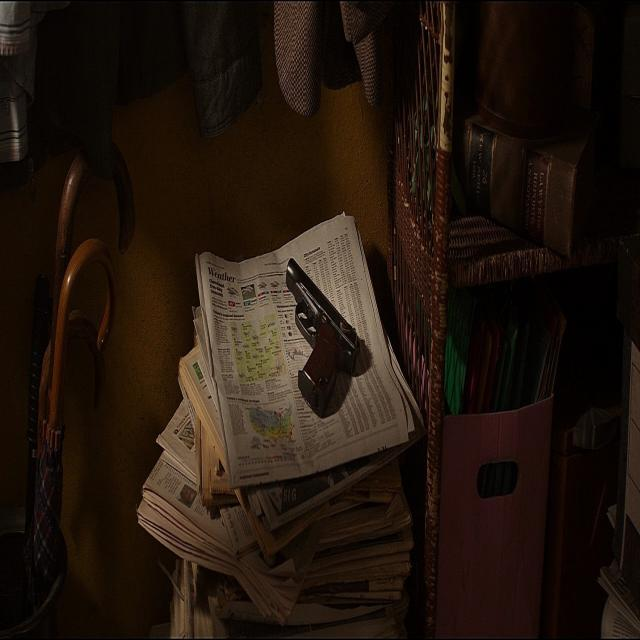gun-knife-thesis - v11 Yolov5 augmented: (276, 246, 367, 423)
